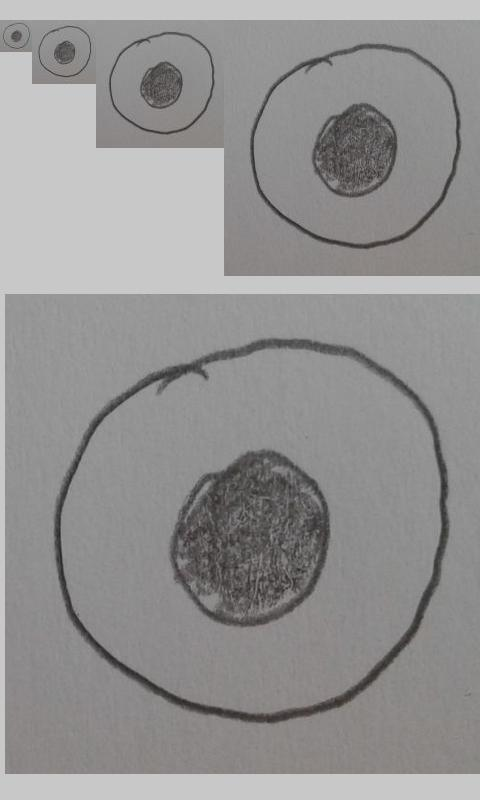radio_button: (51, 334, 452, 726), (247, 42, 462, 251), (106, 30, 215, 136), (36, 24, 92, 78), (1, 22, 31, 50)
